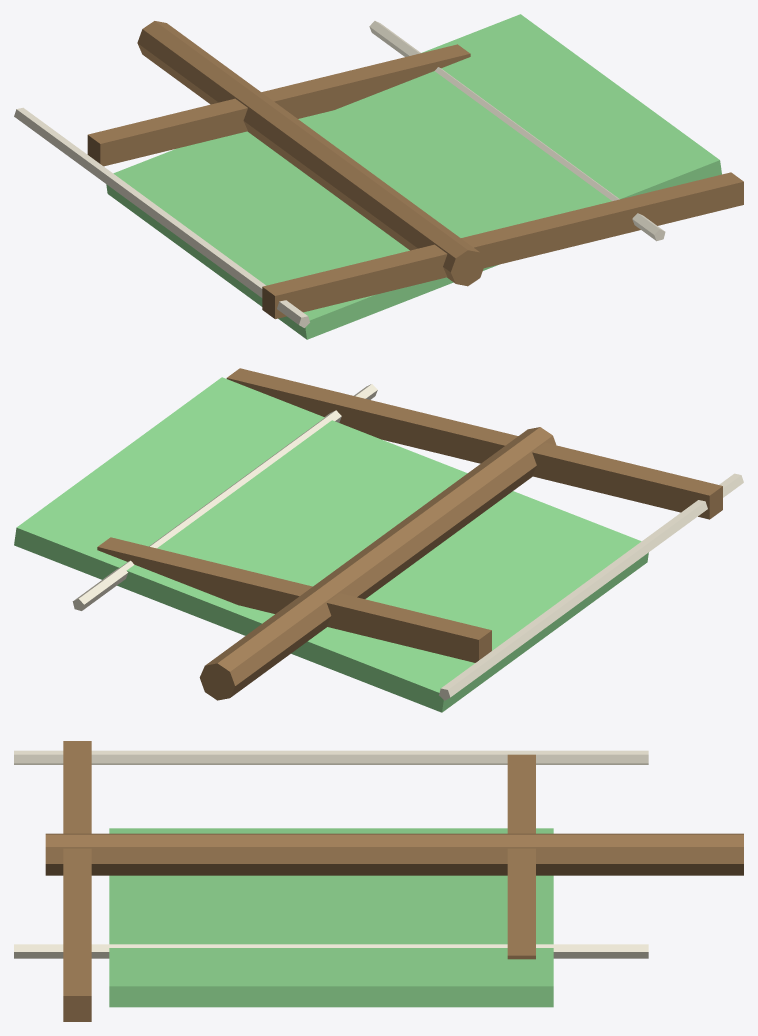
File: 07_skyship_rigging.glb
3 views of the same model, one above another, from view 1: azimuth 30°, elevation 25°; view 2: azimuth 150°, elevation 25°; view 3: azimuth 270°, elevation 25° (orthographic). The views are drawn at different scales.
Visible parts, largest first — view 1: sail_panel, spar_top, mast, spar_bottom, rigging_line_l, rigging_line_r; view 2: sail_panel, mast, spar_top, spar_bottom, rigging_line_l, rigging_line_r; view 3: sail_panel, mast, rigging_line_l, spar_top, spar_bottom, rigging_line_r.
Boxes of the visible parts, x1=… form: sail_panel: x1=106, y1=14, x2=721, y2=339; spar_top: x1=262, y1=172, x2=743, y2=319; mast: x1=137, y1=21, x2=484, y2=286; spar_bottom: x1=87, y1=44, x2=470, y2=166; rigging_line_l: x1=14, y1=107, x2=309, y2=327; rigging_line_r: x1=369, y1=21, x2=665, y2=241; sail_panel: x1=14, y1=377, x2=648, y2=712; mast: x1=199, y1=427, x2=556, y2=700; spar_top: x1=226, y1=368, x2=722, y2=519; spar_bottom: x1=97, y1=537, x2=491, y2=662; rigging_line_l: x1=439, y1=473, x2=743, y2=700; rigging_line_r: x1=72, y1=384, x2=377, y2=610; sail_panel: x1=109, y1=828, x2=553, y2=1007; mast: x1=45, y1=833, x2=743, y2=875; rigging_line_l: x1=14, y1=750, x2=648, y2=764; spar_top: x1=63, y1=741, x2=91, y2=1021; spar_bottom: x1=507, y1=754, x2=535, y2=959; rigging_line_r: x1=14, y1=944, x2=648, y2=958.
Bounding box in the file's own units: 2.28 × 0.3671 × 2.76.
